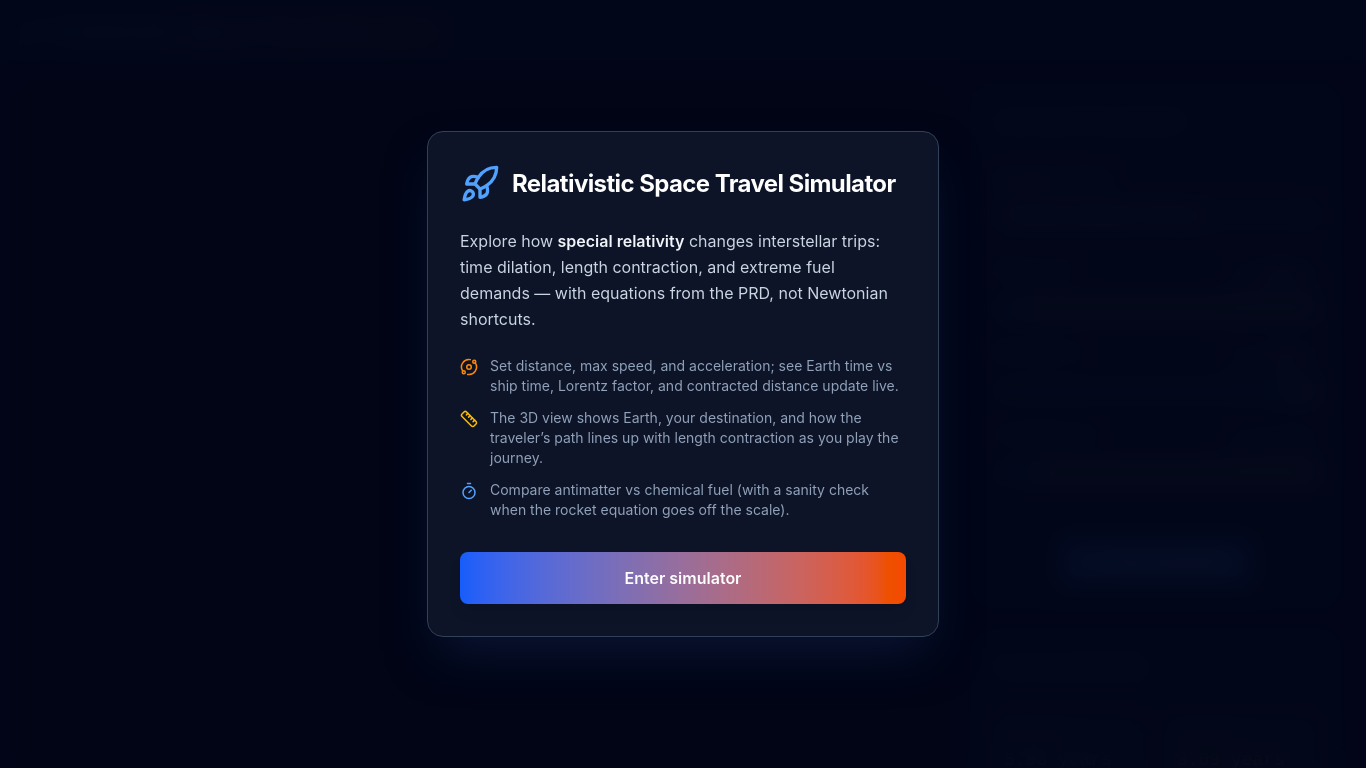
Test case: App Integration › shows splash until Enter simulator is clicked
This screenshot has width=1366, height=768.
Expected: the text "special relativity" is shown, left=558, top=231, right=684, bottom=251
Click the button "Enter simulator": (683, 578) left=460, top=552, right=906, bottom=604
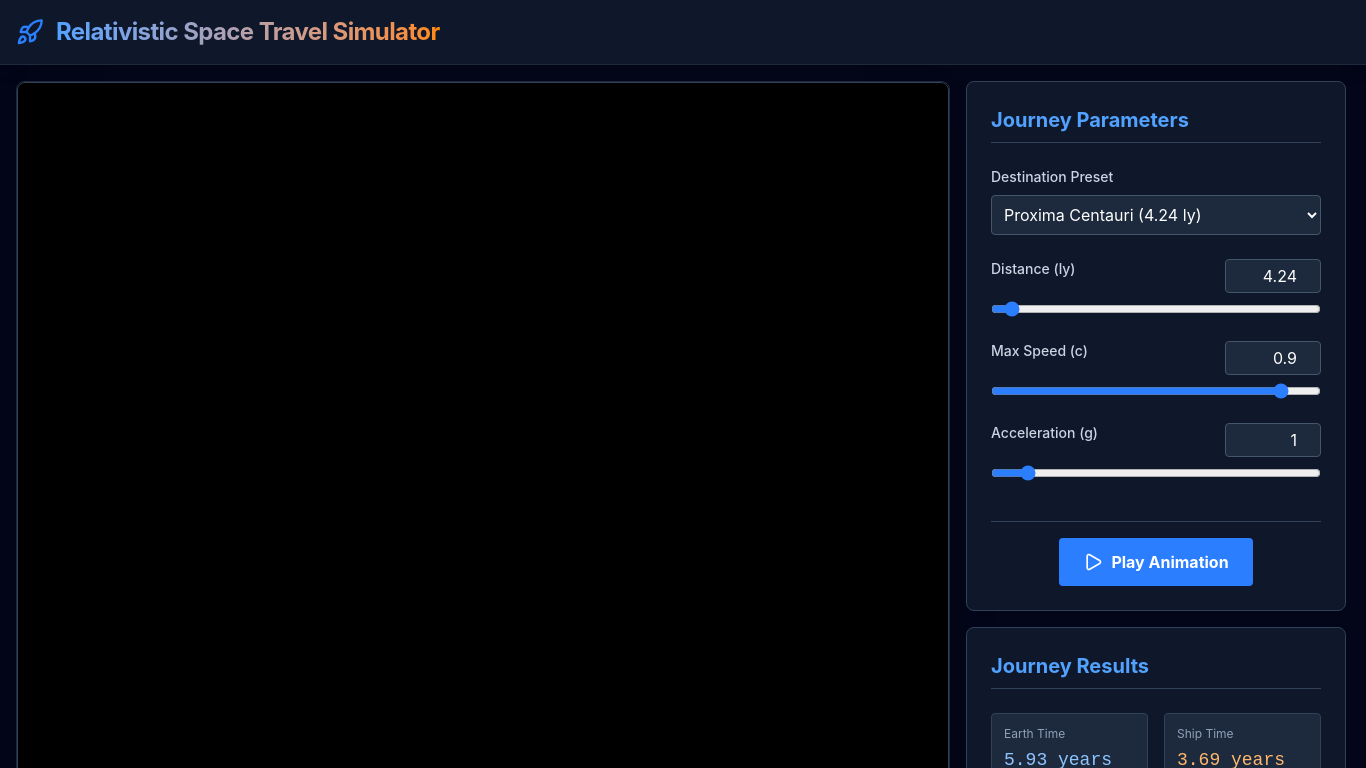
Result: the dialog is gone
